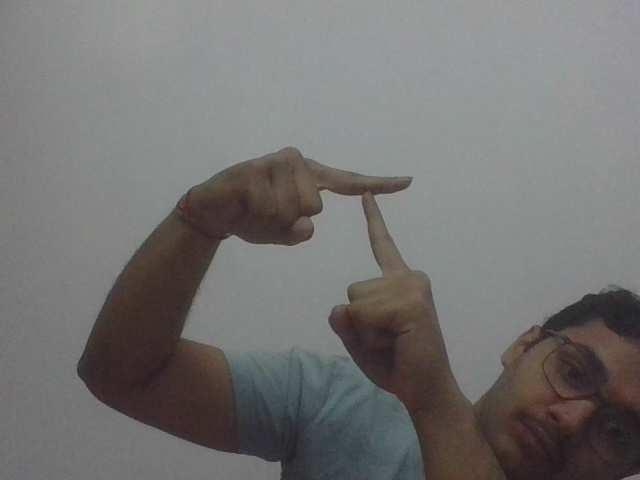T: (204, 145, 441, 358)
